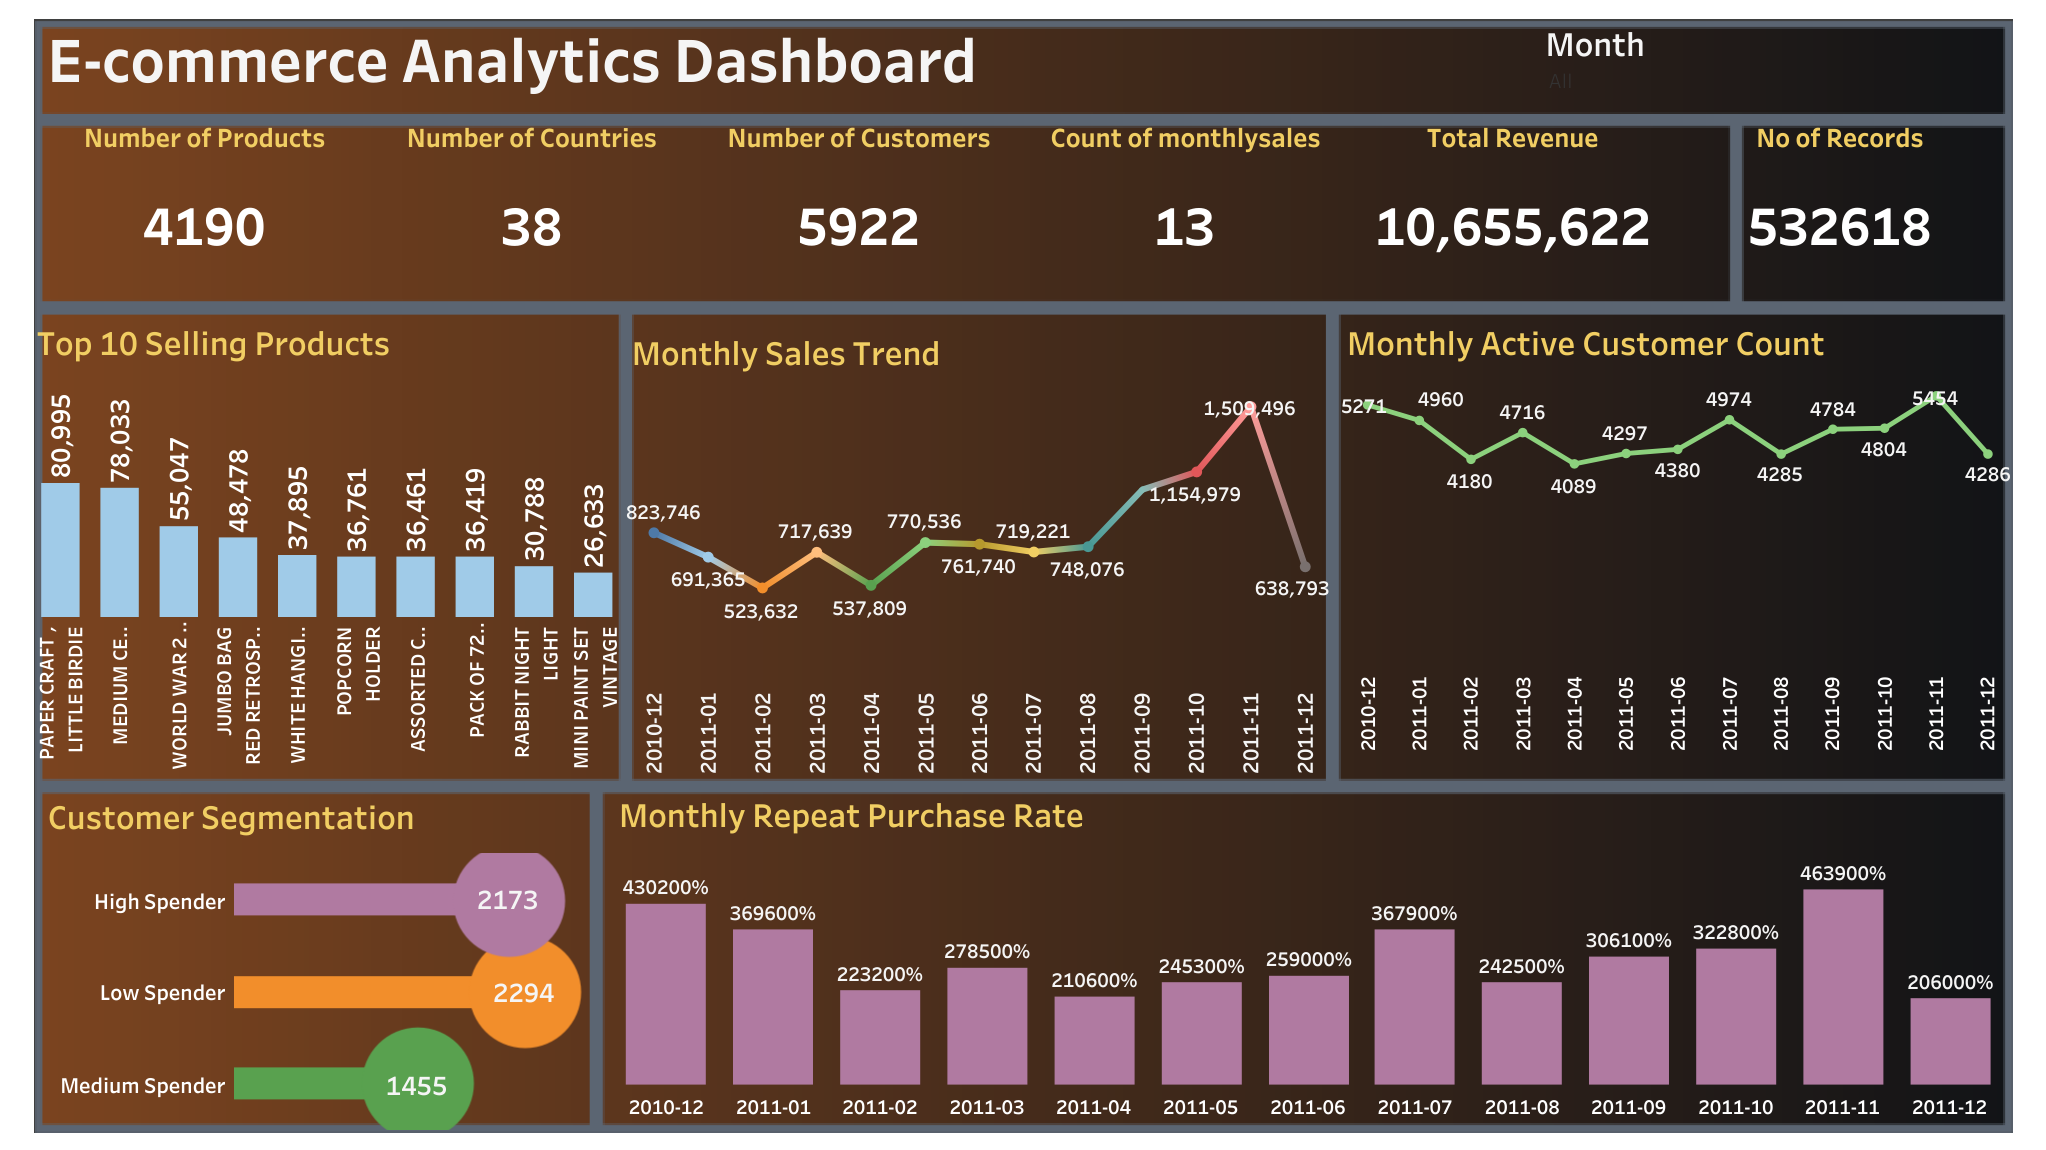

The dashboard page shown, as its layout file describes it:
{"tool":"tableau","page":{"name":"E-commerce Analytics Dashboard","canvas":[1280,720],"ordinal":0},"visuals":[{"type":"image","param":"/Users/AKB_CIM/Programming/Tableau/HR_employment/background_image/HR background.","box":[8,8,1264,704]},{"type":"filter","title":"Top 10 Selling Products","param":"[federated.1pmz4ut14q60ur1ah8o8n1ypux1b].[none:Month:nk]","box":[966,12,290,62]},{"type":"text","box":[27,14,633,43]},{"type":"worksheet","title":"Monthly Sales","mark":"Automatic","box":[26,75,1226,111]},{"type":"worksheet","title":"Top 10 Selling Products","mark":"Automatic","rows":["TotalQuantity"],"cols":["Description (topsellingproducts)"],"box":[19,194,371,292]},{"type":"worksheet","title":"Monthly Active Customer Count","mark":"Line","rows":["ActiveCustomers"],"cols":["Month (monthlyactivecustomers)"],"box":[838,194,420,283]},{"type":"worksheet","title":"Monthly Sales Trend","mark":"Line","rows":["TotalRevenue"],"cols":["Month"],"box":[391,200,441,287]},{"type":"worksheet","title":"Monthly Repeat Purchase Rate","mark":"Bar","rows":["RepeatCustomers"],"cols":["Month (monthlyrepeatpurchase)"],"box":[383,489,869,211]},{"type":"worksheet","title":"Customer Segmentation","mark":"Automatic","rows":["CustomerSegment"],"cols":["Calculation_1690398037968617472","Calculation_1690398037968617472"],"box":[26,490,346,216]}]}

Visuals, with their boxes in screenshot pixels (x1, y1, x2, y2), scaled from the page's 1280x720 canvas onto the 2046x1150 screenshot:
image: [x1=13, y1=13, x2=2033, y2=1137]
"Top 10 Selling Products" filter: [x1=1544, y1=19, x2=2008, y2=118]
text: [x1=43, y1=22, x2=1055, y2=91]
"Monthly Sales" worksheet: [x1=42, y1=120, x2=2001, y2=297]
"Top 10 Selling Products" worksheet: [x1=30, y1=310, x2=623, y2=776]
"Monthly Active Customer Count" worksheet (Line marks): [x1=1339, y1=310, x2=2011, y2=762]
"Monthly Sales Trend" worksheet (Line marks): [x1=625, y1=319, x2=1330, y2=778]
"Monthly Repeat Purchase Rate" worksheet (Bar marks): [x1=612, y1=781, x2=2001, y2=1118]
"Customer Segmentation" worksheet: [x1=42, y1=783, x2=595, y2=1128]
